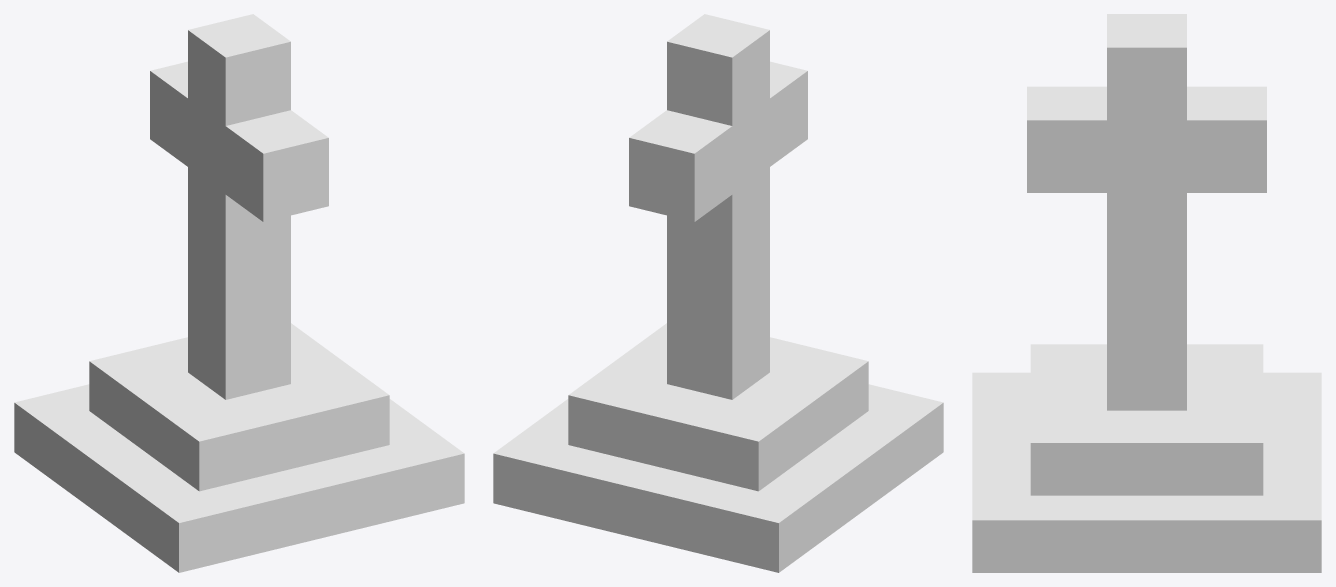
The picture shows the model from 3 angles, left to right: view 1: azimuth 30°, elevation 25°; view 2: azimuth 150°, elevation 25°; view 3: azimuth 270°, elevation 25°; orthographic projection. The views are drawn at different scales.
Size of the model in its own units: 96 by 142 by 96.
Materials: 1 (1 with a texture image).
